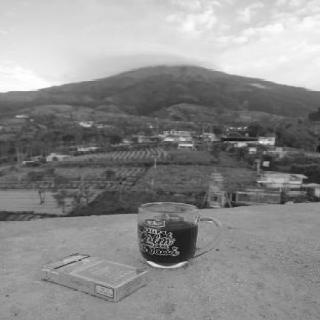objects: (40, 254, 148, 302)
